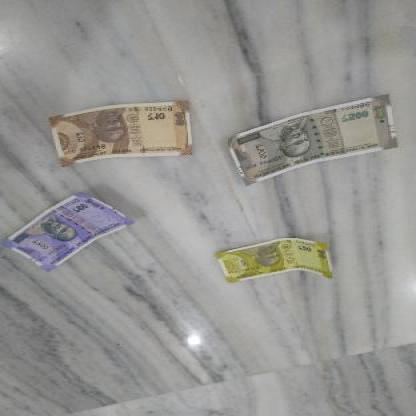New100Front: (9, 191, 132, 276)
New10Front: (61, 100, 191, 167)
New20Front: (218, 240, 334, 285)
New500Front: (235, 96, 394, 193)
